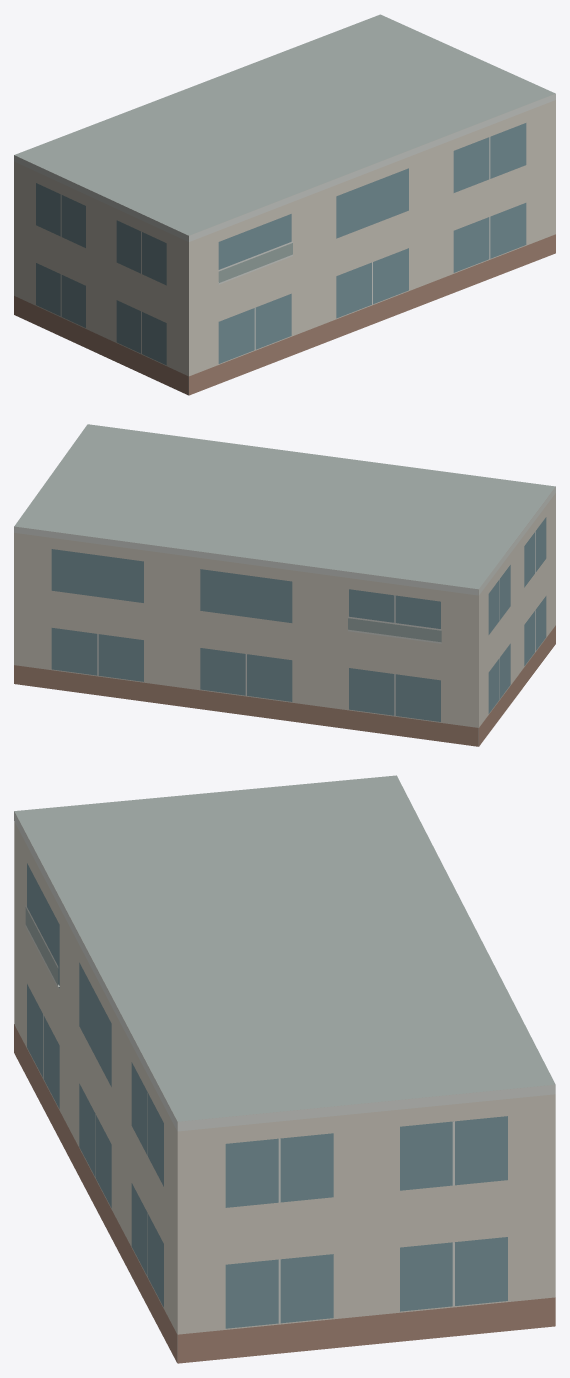
File: survey-upis-32866447.glb
The picture shows the model from 3 angles, top to bottom: view 1: azimuth 30°, elevation 25°; view 2: azimuth 150°, elevation 25°; view 3: azimuth 270°, elevation 25°; orthographic projection. The views are drawn at different scales.
Parts seen in each view (by area): view 1: survey-upis-32866447.tmp; view 2: survey-upis-32866447.tmp; view 3: survey-upis-32866447.tmp.
Boxes of the visible parts, x1,y1,x2,y2 form: survey-upis-32866447.tmp: (14, 14, 555, 395); survey-upis-32866447.tmp: (14, 424, 555, 746); survey-upis-32866447.tmp: (14, 775, 555, 1363).
Bounding box in the file's own units: 18.77 × 6.1 × 12.4.
